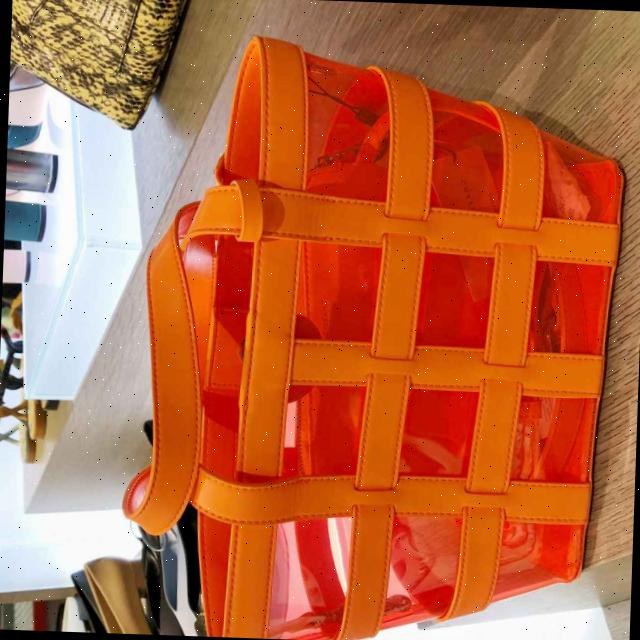Handbag: (119, 27, 634, 640)
